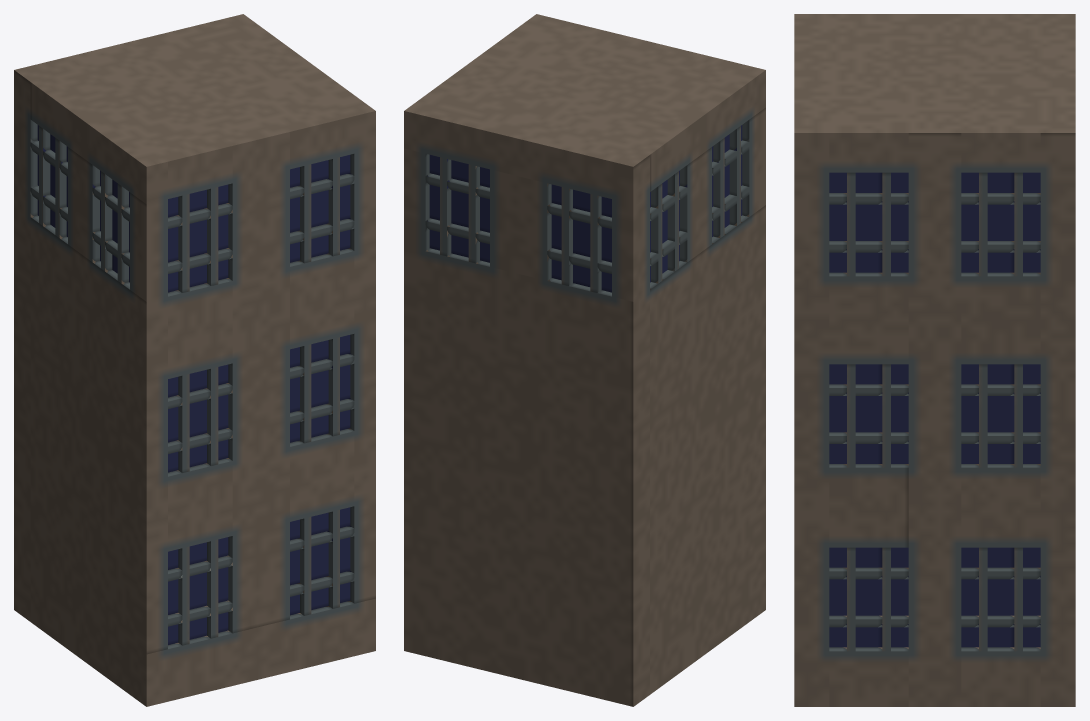
File: budynki_dzielnia_5.dae
3 renders of one model, left to right at view 1: azimuth 30°, elevation 25°; view 2: azimuth 150°, elevation 25°; view 3: azimuth 270°, elevation 25°, orthographic. The views are drawn at different scales.
Parts seen in each view (by area): view 1: Content; view 2: Content; view 3: Content.
Boxes of the visible parts, box(x1,y1,x2,y2) form: Content: box(14, 14, 375, 706); Content: box(404, 14, 765, 706); Content: box(794, 14, 1075, 706).
Size of the model in its own units: 32 by 72 by 32.
Materials: 1 (1 with a texture image).
